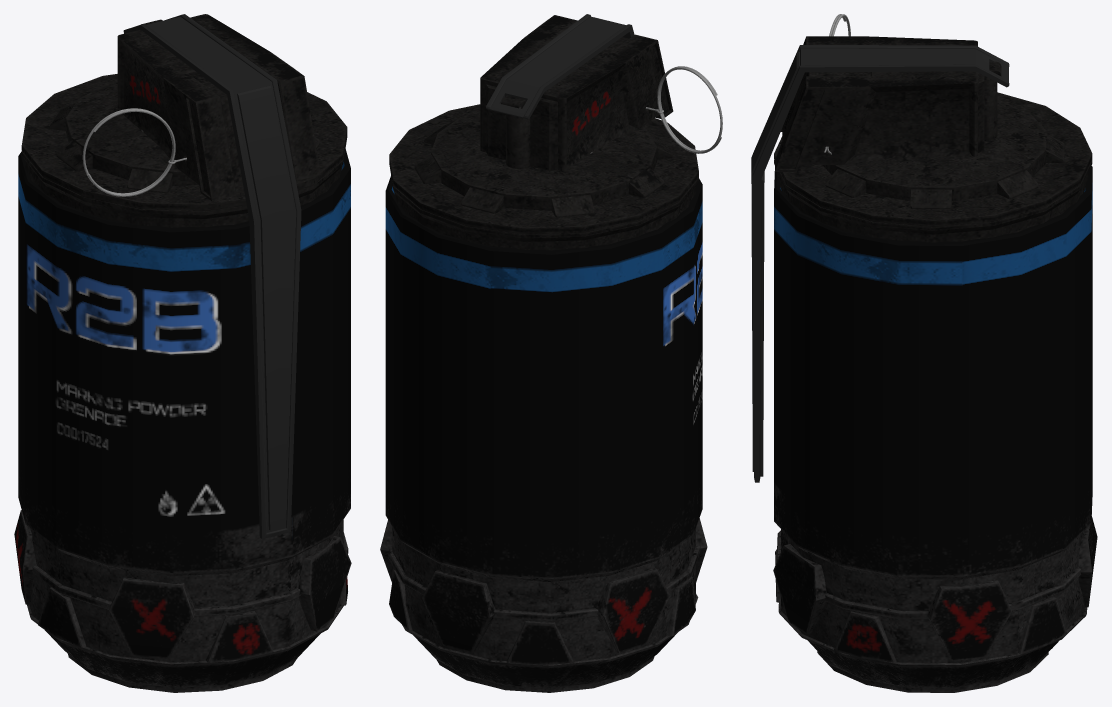
3 renders of one model, left to right at view 1: azimuth 30°, elevation 25°; view 2: azimuth 150°, elevation 25°; view 3: azimuth 270°, elevation 25°, orthographic. The views are drawn at different scales.
Visible parts, largest first — view 1: R2Bm, Handle, guarantor; view 2: R2Bm, Handle, guarantor; view 3: R2Bm, Handle.
Part boxes in pixels (x1=…): R2Bm: x1=14, y1=14, x2=351, y2=692; Handle: x1=123, y1=14, x2=301, y2=538; guarantor: x1=82, y1=108, x2=186, y2=196; R2Bm: x1=380, y1=15, x2=707, y2=692; Handle: x1=486, y1=14, x2=634, y2=119; guarantor: x1=645, y1=66, x2=722, y2=153; R2Bm: x1=773, y1=36, x2=1097, y2=692; Handle: x1=751, y1=45, x2=1009, y2=482.
Size of the model in its own units: 7.16 by 14.01 by 7.47.
